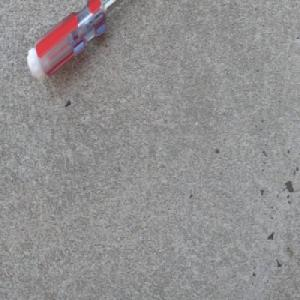Screwdriver: (25, 0, 125, 84)
